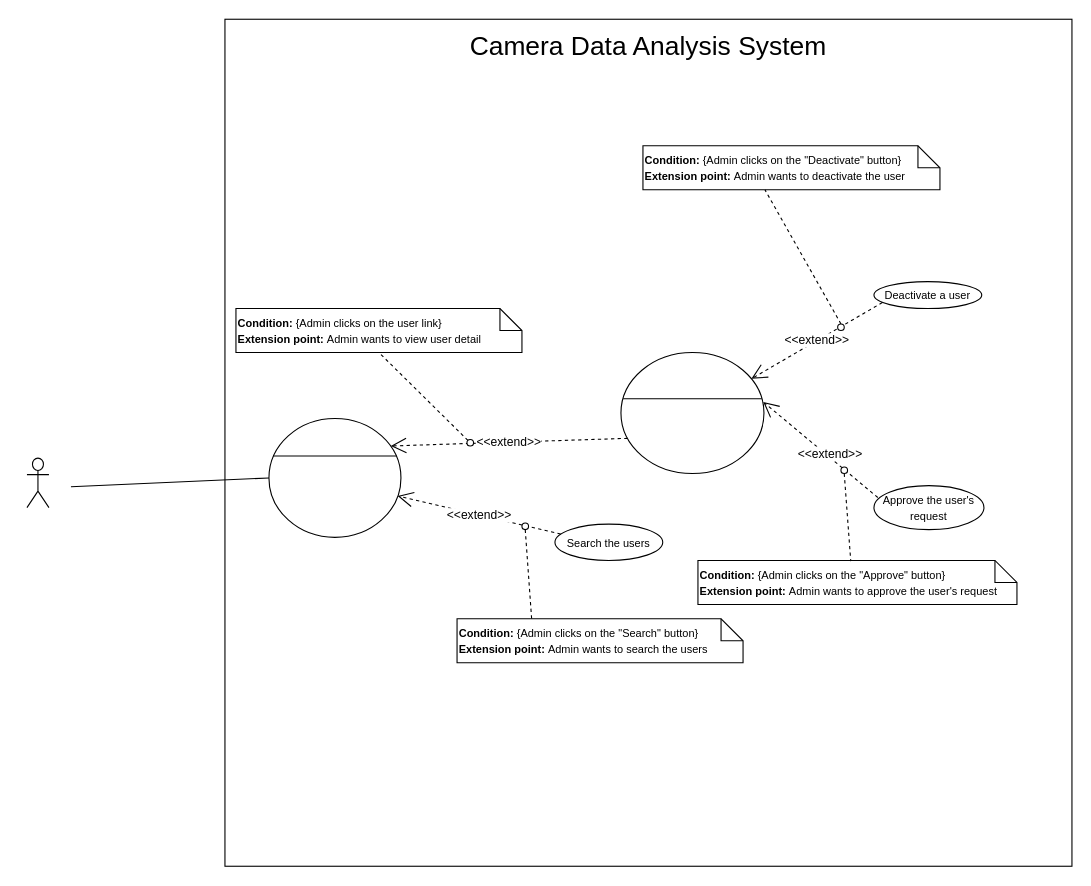
Image size: 1091x886. Some labels were removed from this diagram. Each missing label, with the centre of its shape:
"Admin" belongs at [37,482].
"View all users Extension points View user detail Search the users" belongs at [334,477].
"View user detail Extension points Approve the user's request Remove the user" belongs at [692,412].
